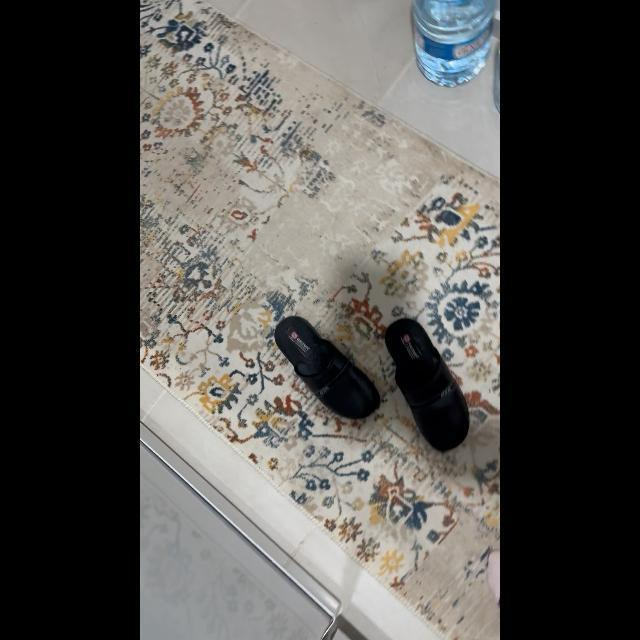slipper: (382, 309, 474, 456), (273, 314, 382, 422)
